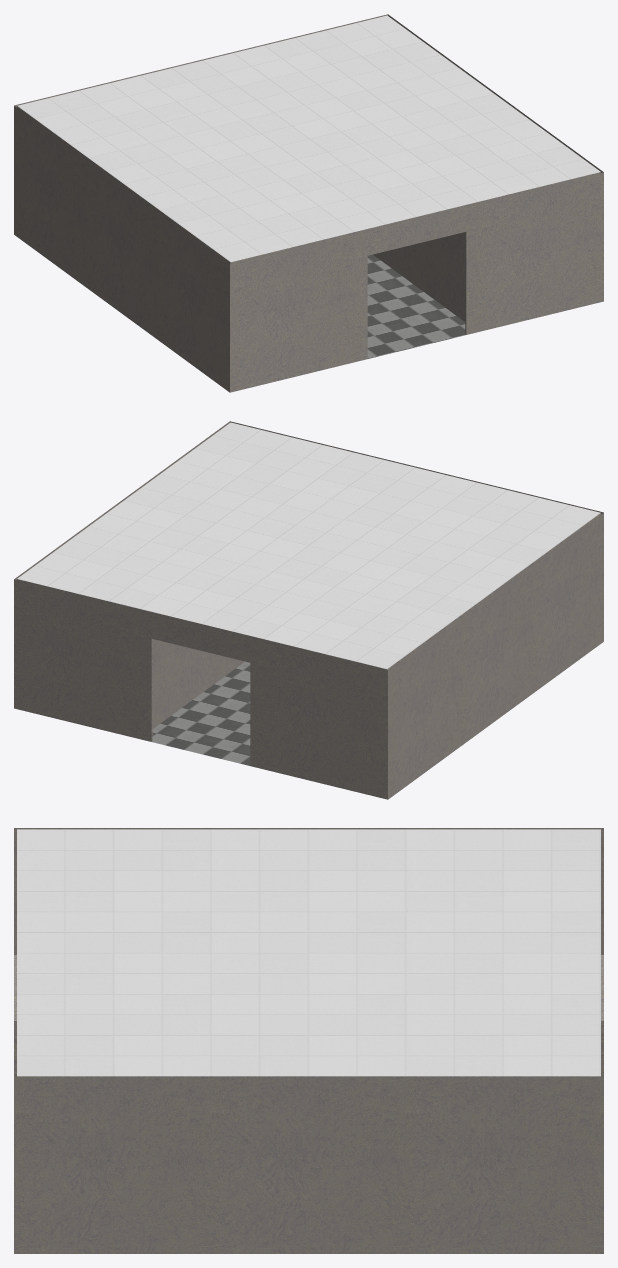
Rendered from 2exitcorridor.glb.
3 renders of one model, top to bottom at view 1: azimuth 30°, elevation 25°; view 2: azimuth 150°, elevation 25°; view 3: azimuth 270°, elevation 25°, orthographic. The views are drawn at different scales.
Parts seen in each view (by area): view 1: 2exitcorridor; view 2: 2exitcorridor; view 3: 2exitcorridor.
Part boxes in pixels (box(x1,y1,x2,y2)): 2exitcorridor: box(14, 14, 603, 392); 2exitcorridor: box(14, 421, 603, 799); 2exitcorridor: box(14, 828, 603, 1253).
Size of what is drawn, in the model's own units: 15.15 by 5 by 15.15.
3 materials, 3 textured.
